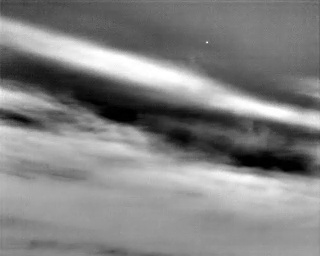BIRD: (204, 38, 210, 46)
